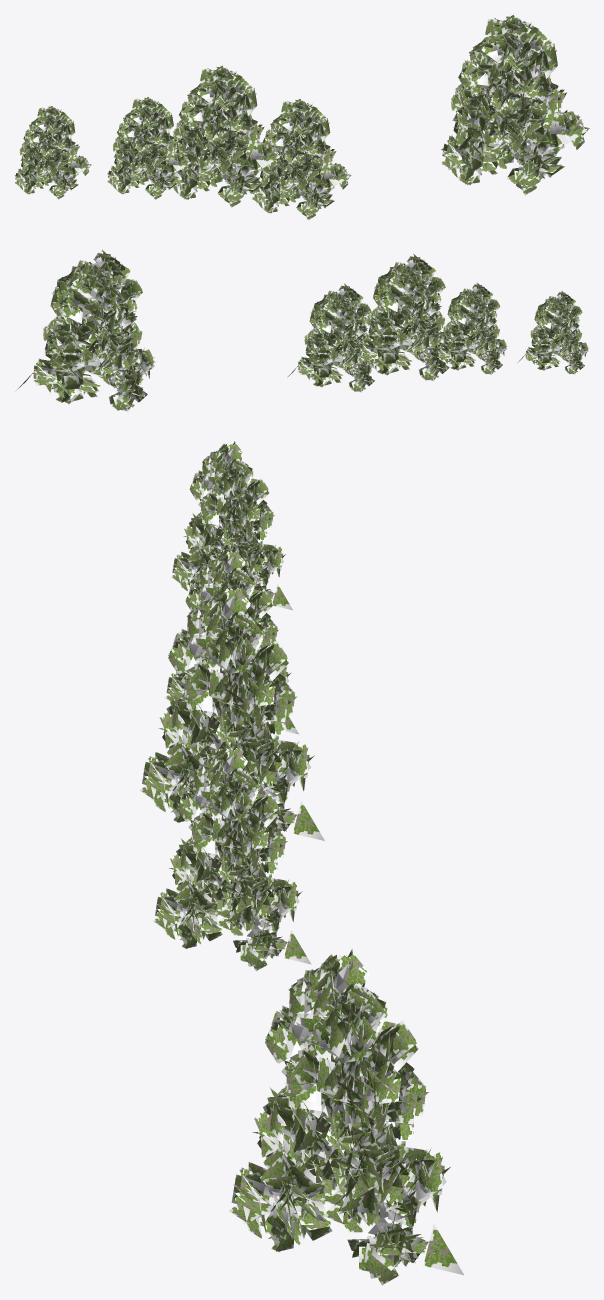
Rendered from NormalLeaves.obj.
3 renders of one model, top to bottom at view 1: azimuth 30°, elevation 25°; view 2: azimuth 150°, elevation 25°; view 3: azimuth 270°, elevation 25°, orthographic. The views are drawn at different scales.
Parts seen in each view (by area): view 1: Normal.004; view 2: Normal.004; view 3: Normal.004.
Part boxes in pixels (<box>): Normal.004: <box>14,14,589,220</box>; Normal.004: <box>15,249,588,411</box>; Normal.004: <box>140,441,463,1285</box>.
Size of the model in its own units: 0.7829 by 0.2837 by 0.2139.
